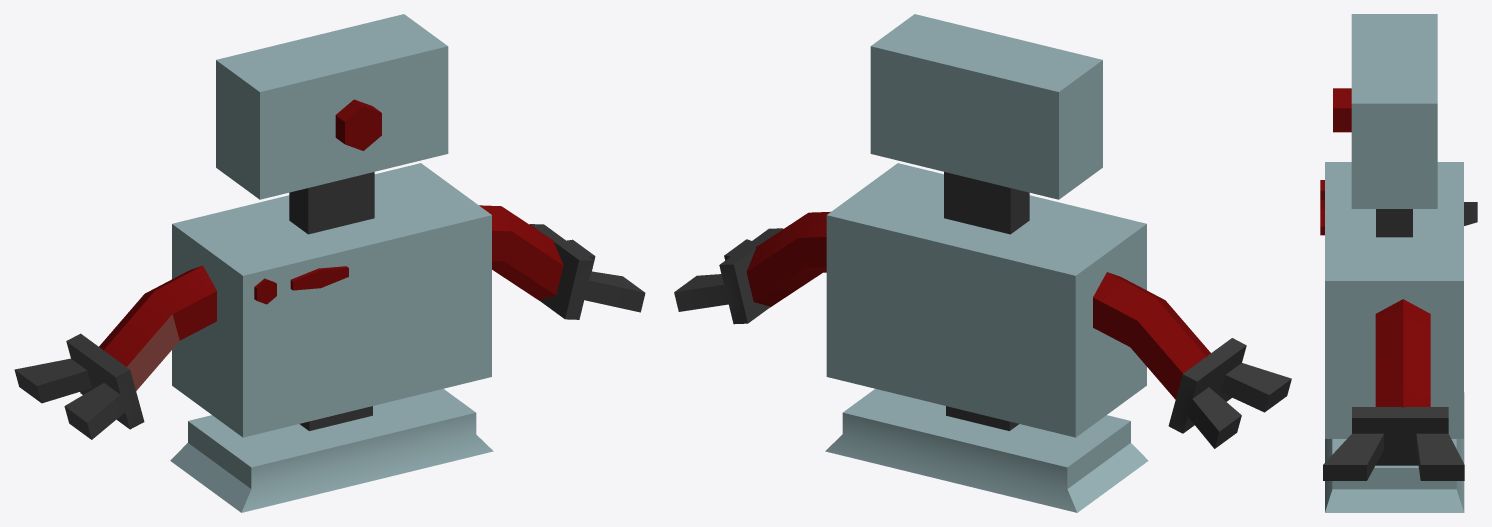
The model's file is roboiiii_rigged_sorta_best_i_could_do_.fbx.
3 views of the same model, side by side, from view 1: azimuth 30°, elevation 25°; view 2: azimuth 150°, elevation 25°; view 3: azimuth 270°, elevation 25° (orthographic). The views are drawn at different scales.
Parts seen in each view (by area): view 1: Chest, Head, Feet, L_Wrist, L_Arm, R_Arm, R_Wrist, Neck; view 2: Chest, Head, Feet, L_Arm, L_Wrist, R_Arm, R_Wrist, Neck; view 3: Chest, Head, R_Wrist, Feet, R_Arm, Neck, L_Wrist.
Part boxes in pixels (x1,y1,x2,y2): Chest: (172, 163, 491, 437); Head: (216, 14, 448, 199); Feet: (170, 389, 493, 512); L_Wrist: (14, 333, 144, 439); L_Arm: (99, 265, 216, 390); R_Arm: (479, 205, 563, 300); R_Wrist: (529, 224, 645, 319); Neck: (289, 172, 374, 234); Chest: (826, 163, 1146, 437); Head: (870, 14, 1102, 199); Feet: (825, 389, 1148, 512); L_Arm: (1093, 272, 1210, 399); L_Wrist: (1168, 338, 1291, 448); R_Arm: (746, 211, 830, 307); R_Wrist: (674, 228, 783, 324); Neck: (944, 172, 1029, 234); Chest: (1320, 162, 1463, 438); Head: (1333, 14, 1437, 208); R_Wrist: (1323, 407, 1464, 480); Feet: (1325, 392, 1464, 512); R_Arm: (1375, 299, 1430, 407); Neck: (1376, 209, 1412, 237); L_Wrist: (1464, 202, 1477, 225).
Bounding box in the file's own units: 10.43 × 7.27 × 2.63.
